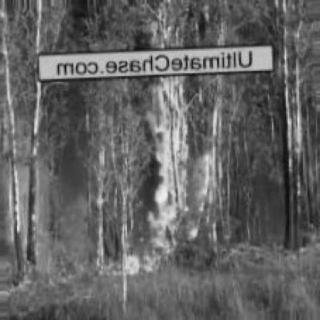Fire: (122, 2, 190, 272)
